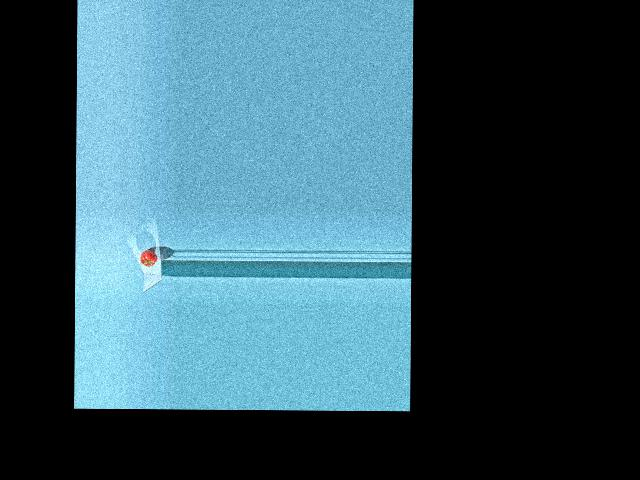tomato: (140, 250, 157, 266)
